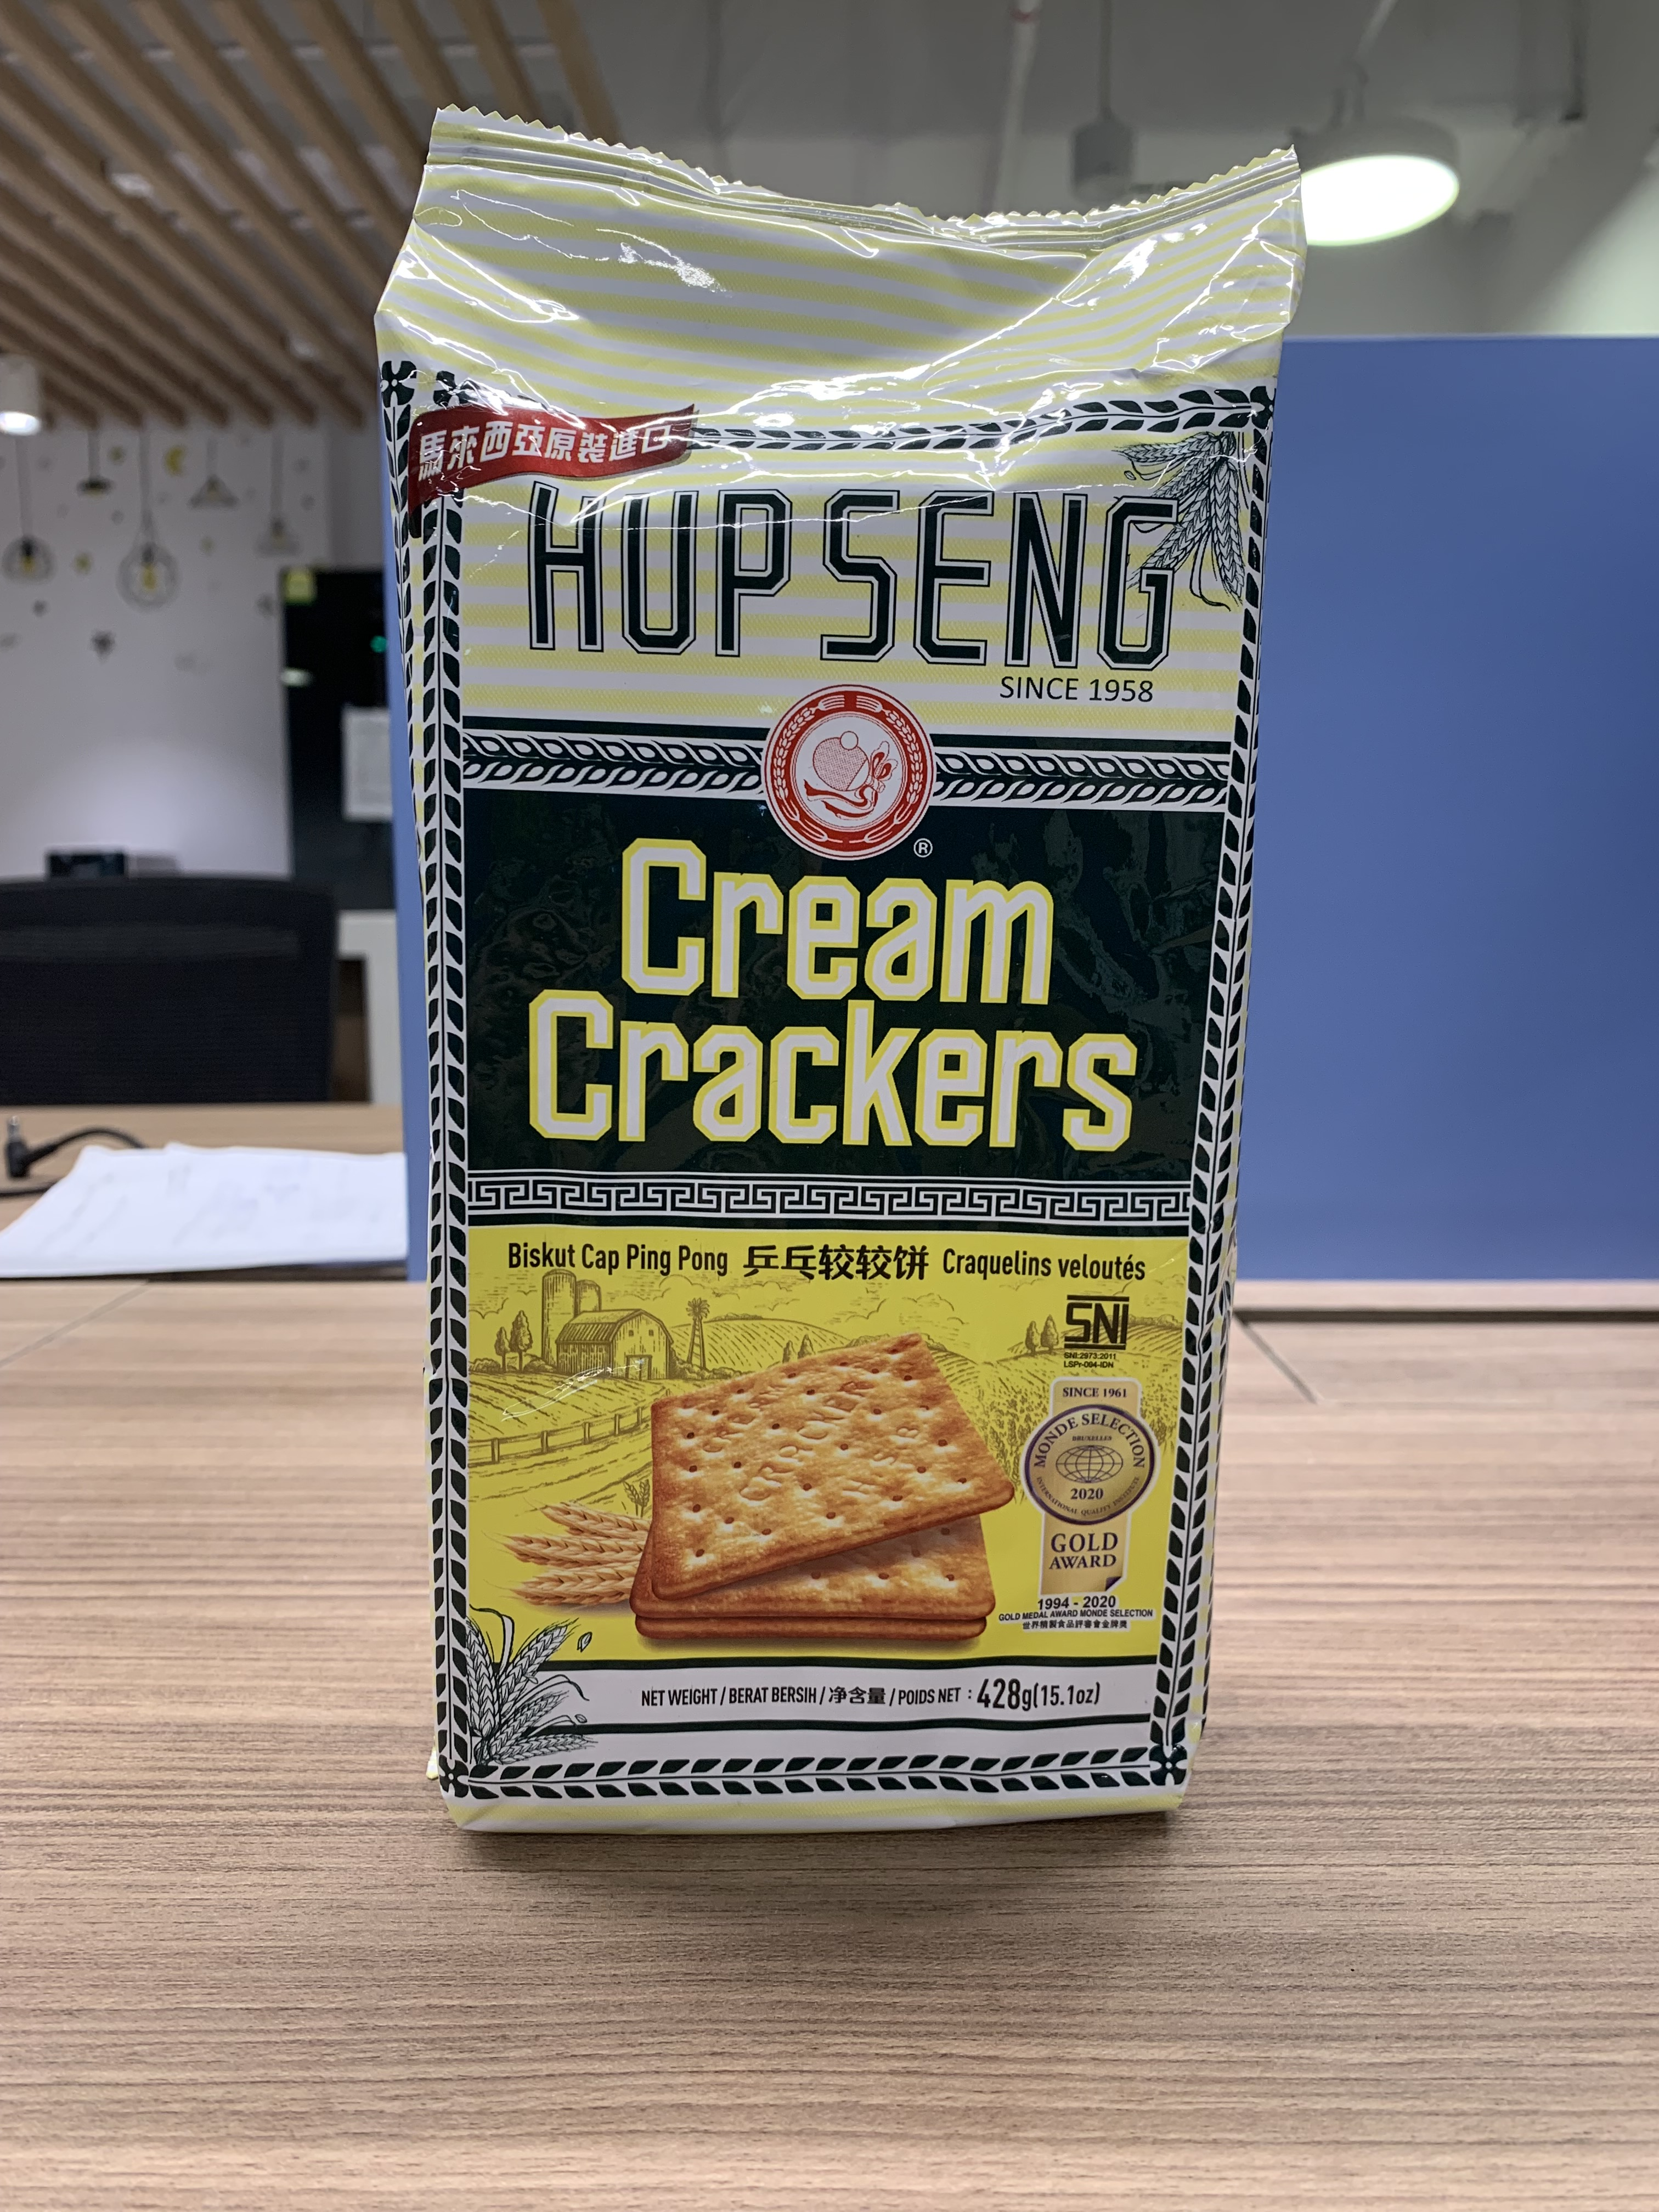crackers_400g-499g: (439, 242, 1204, 1799)
